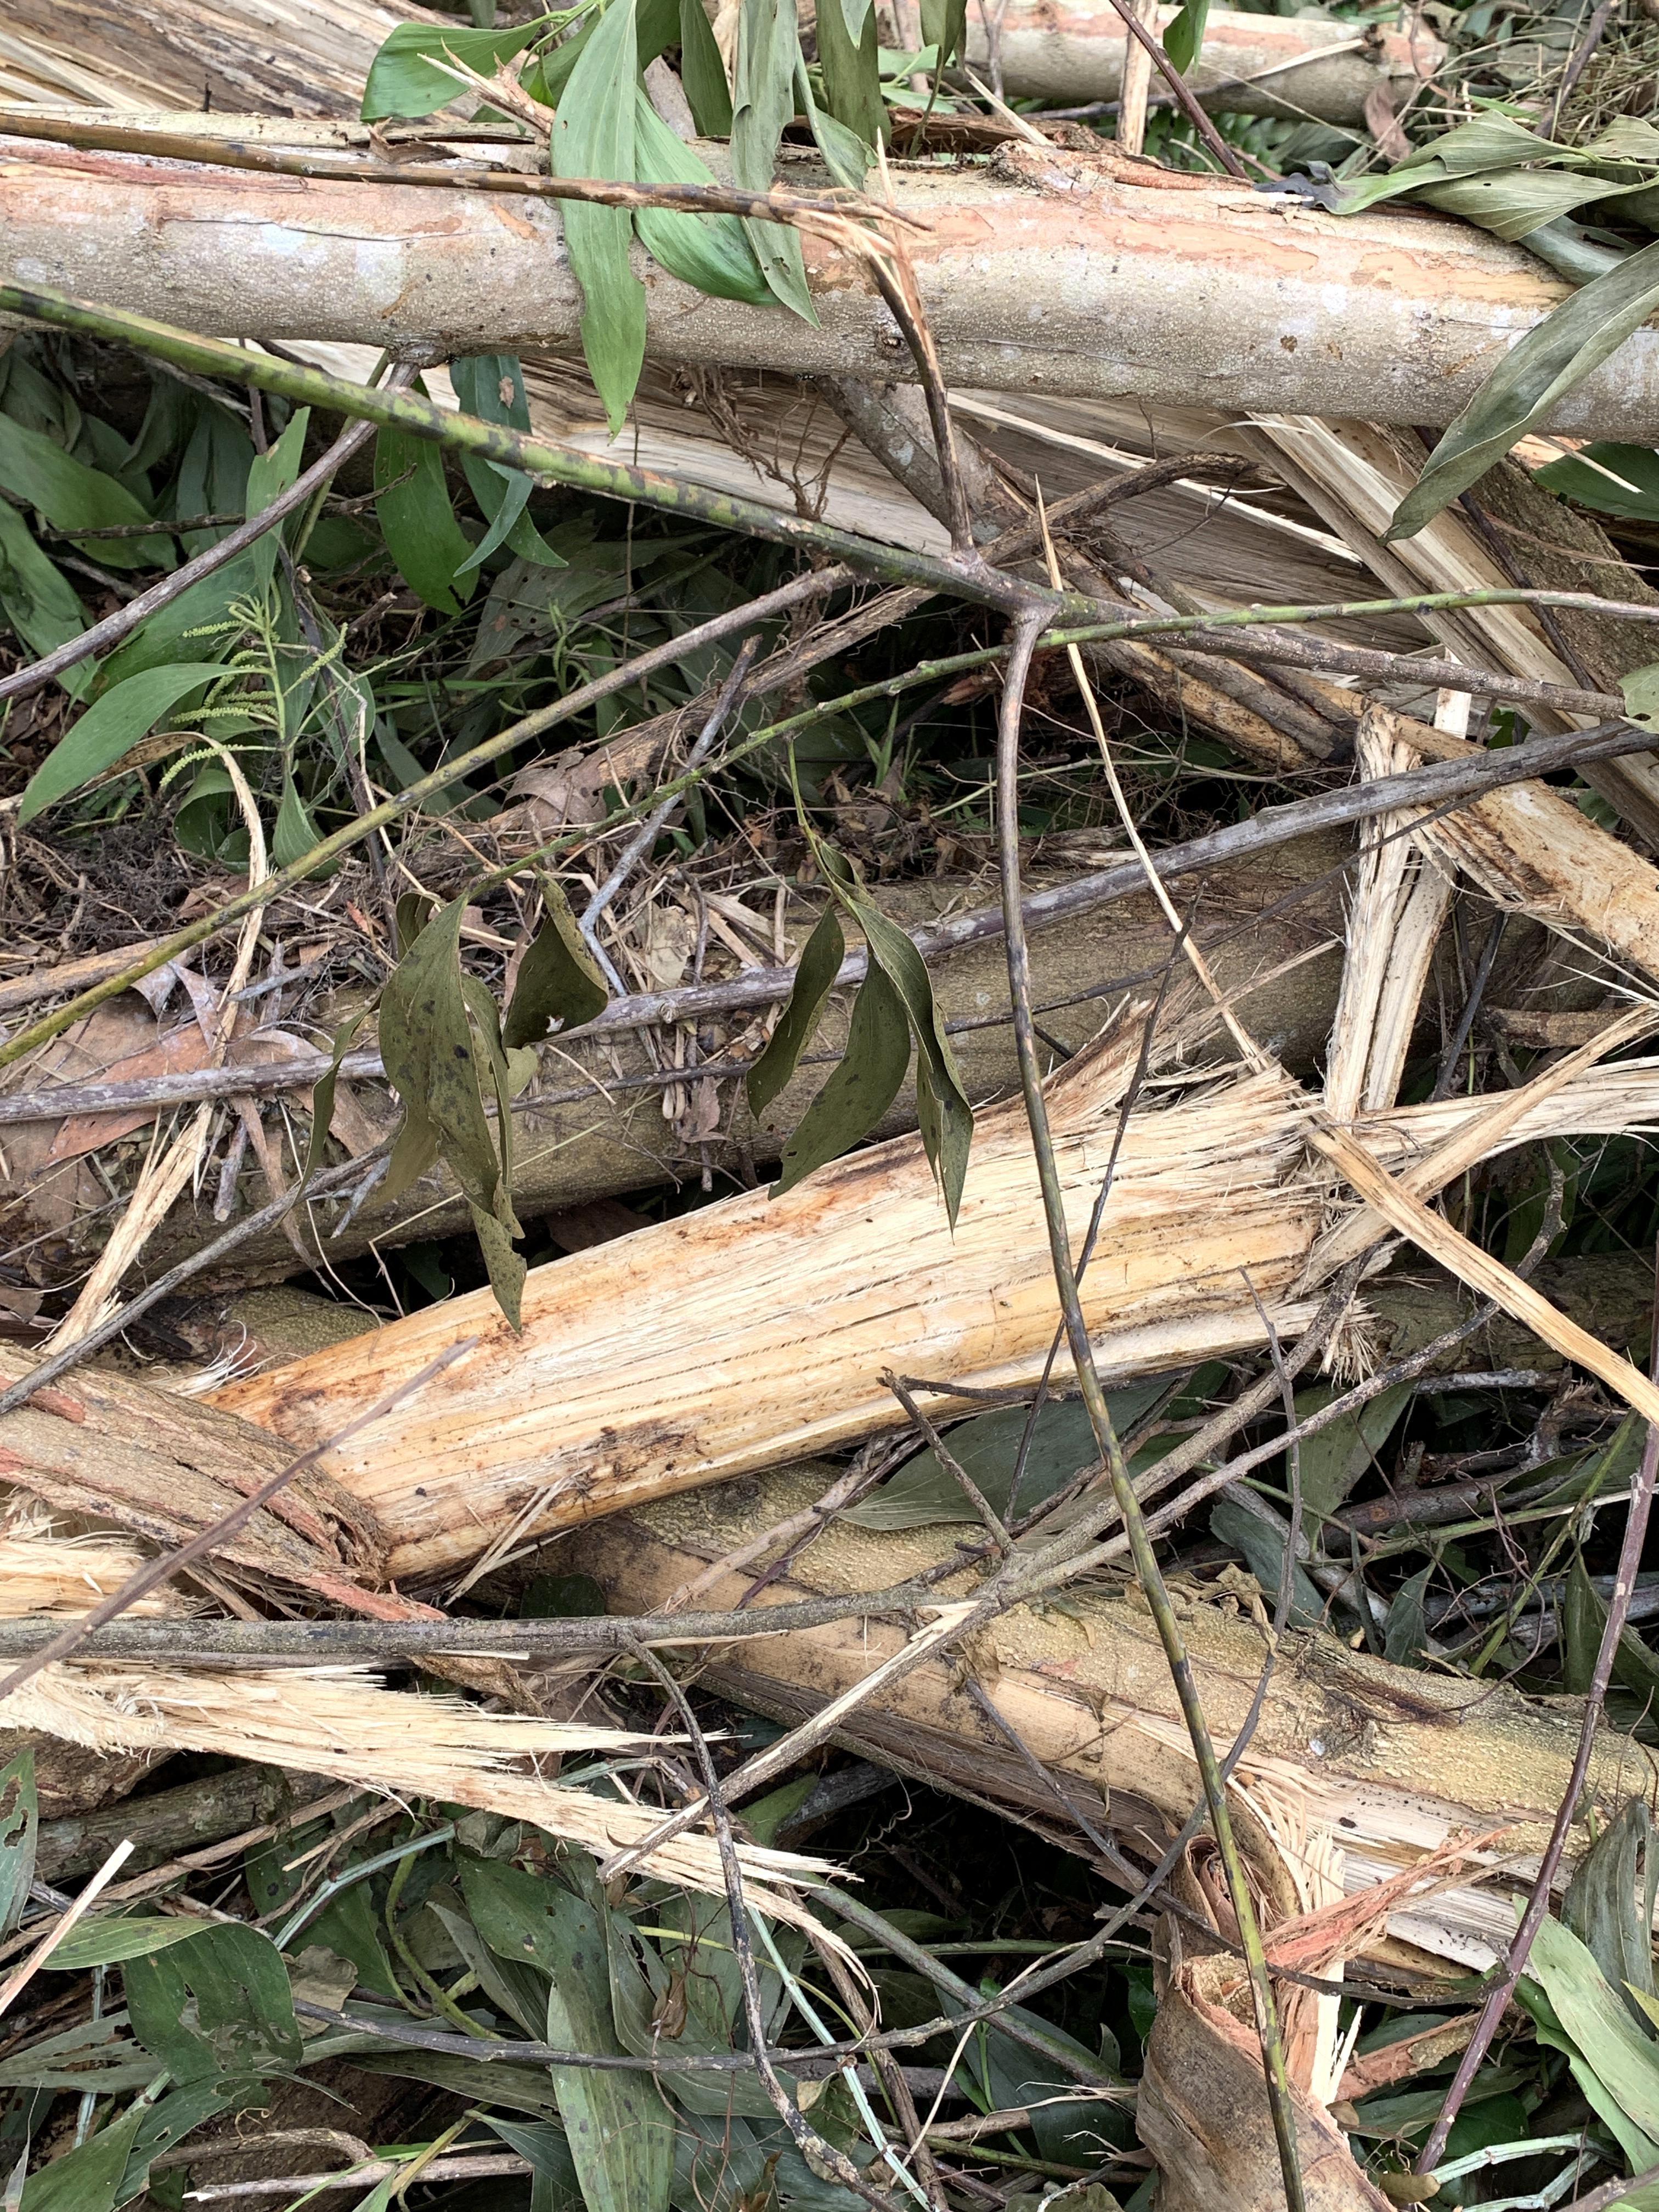Mammals Attack: (0, 1028, 1290, 1747), (0, 122, 1659, 542), (608, 1463, 1659, 2074)
